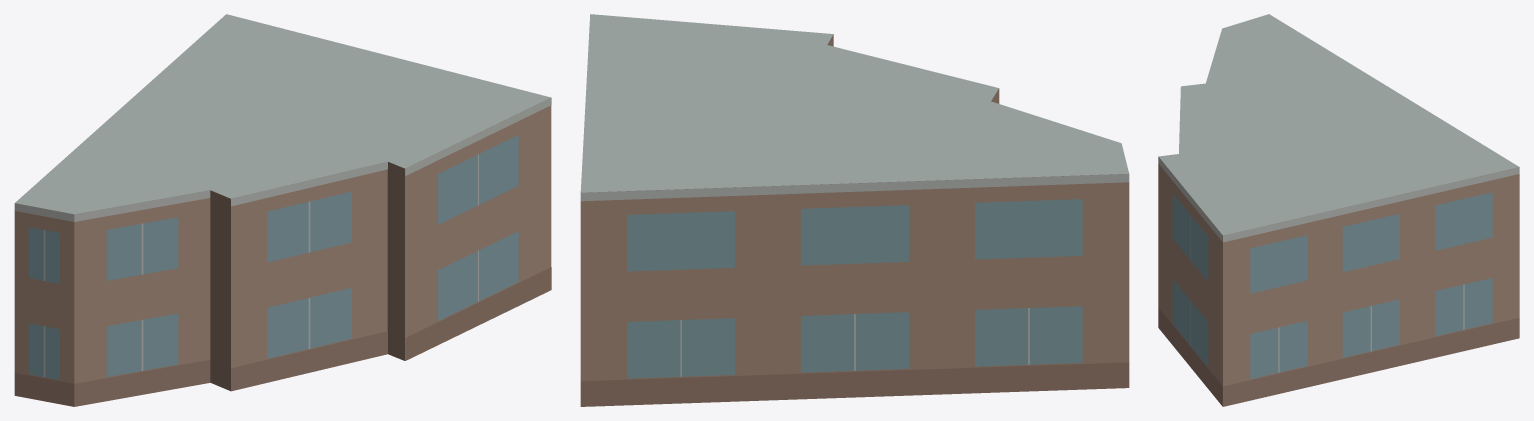
File: survey-upis-32726338.glb
3 views of the same model, side by side, from view 1: azimuth 30°, elevation 25°; view 2: azimuth 150°, elevation 25°; view 3: azimuth 270°, elevation 25° (orthographic). The views are drawn at different scales.
Visible parts, largest first — view 1: survey-upis-32726338.tmp; view 2: survey-upis-32726338.tmp; view 3: survey-upis-32726338.tmp.
Part boxes in pixels (box(x1,y1,x2,y2)): survey-upis-32726338.tmp: box(14, 14, 551, 406); survey-upis-32726338.tmp: box(580, 14, 1129, 406); survey-upis-32726338.tmp: box(1158, 14, 1519, 406).
Size of the model in its own units: 16.94 by 6.1 by 11.67.
